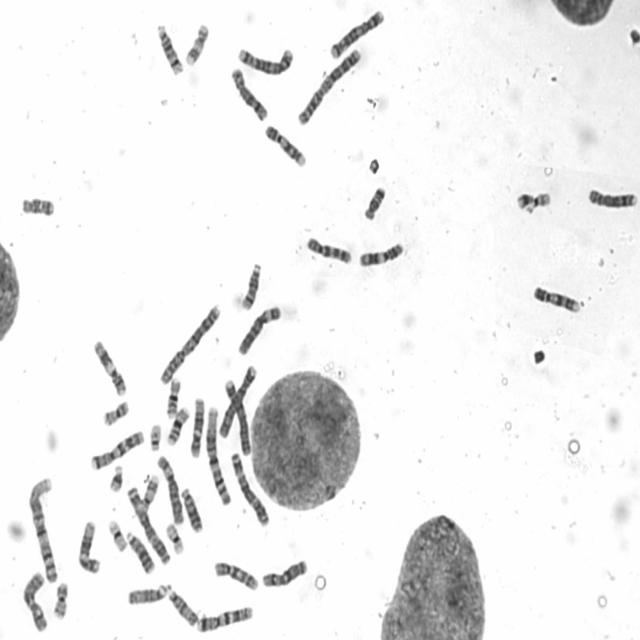A1: (26, 473, 60, 584), (204, 403, 232, 507)
A2: (295, 45, 363, 127), (158, 300, 222, 387)
A3: (124, 482, 171, 565), (229, 448, 271, 527)
B4: (216, 361, 258, 440), (222, 375, 252, 457)
B5: (326, 6, 386, 60), (235, 44, 296, 76)
C10: (212, 557, 260, 592), (303, 233, 353, 266)
C11: (91, 337, 128, 397), (356, 239, 405, 268)
C12: (76, 516, 102, 574), (188, 394, 206, 459)
C6: (235, 302, 284, 357), (154, 452, 184, 525)
C7: (89, 426, 146, 472), (194, 602, 254, 634)
C8: (228, 65, 269, 123), (584, 185, 638, 210)
C9: (262, 121, 308, 169), (530, 282, 582, 315)
D13: (124, 529, 156, 574), (179, 484, 204, 534)
D14: (154, 21, 184, 76), (238, 259, 263, 312)
D15: (166, 587, 199, 627), (125, 580, 170, 607)
E16: (164, 403, 191, 447), (164, 374, 183, 420)
E17: (183, 21, 210, 67), (138, 471, 161, 511)
E18: (362, 183, 388, 221), (18, 192, 56, 218)
F19: (107, 517, 129, 553), (164, 520, 185, 556)
F20: (101, 398, 130, 428), (51, 580, 70, 622)
G21: (106, 462, 125, 493), (516, 192, 534, 211)
G22: (525, 192, 552, 215), (148, 420, 164, 452)
X: (21, 570, 49, 634), (260, 556, 308, 588)
